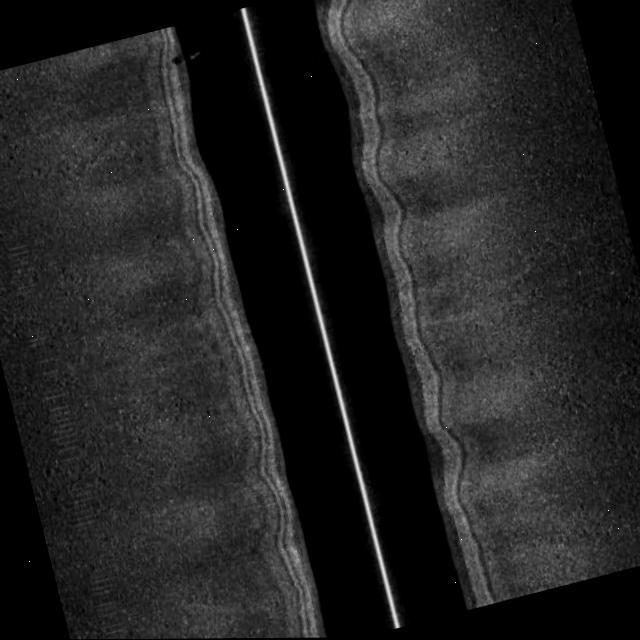other: (166, 45, 205, 71)
